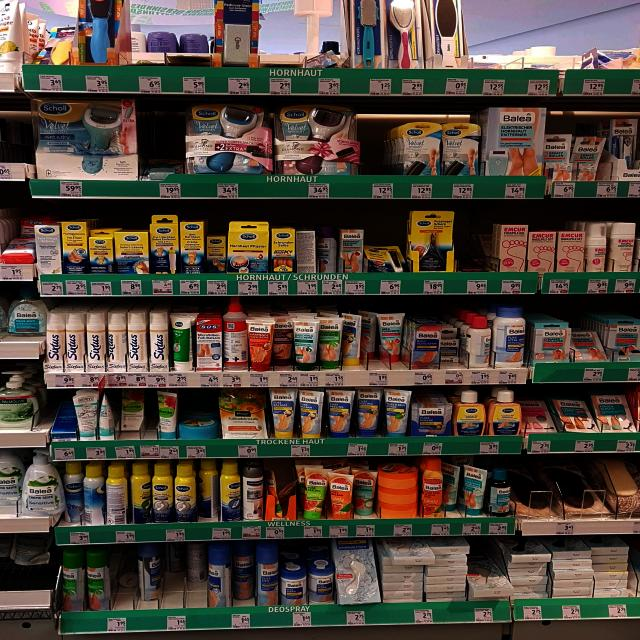empty_space: (480, 10, 620, 62), (362, 111, 387, 171), (147, 119, 177, 163), (463, 216, 488, 268)
